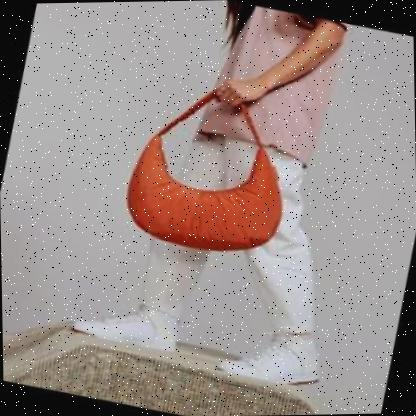bag: (120, 76, 288, 264)
